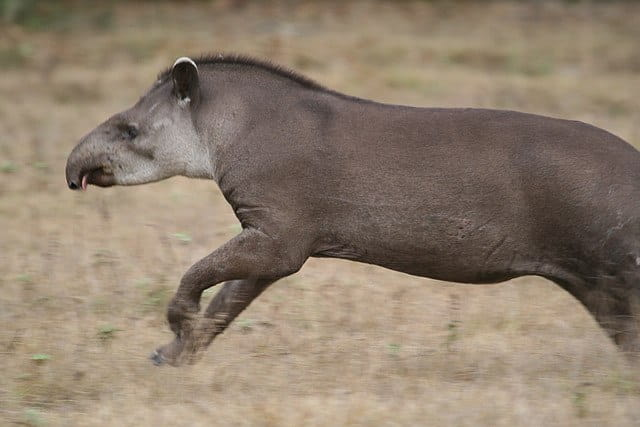Anta: (60, 47, 632, 372)
